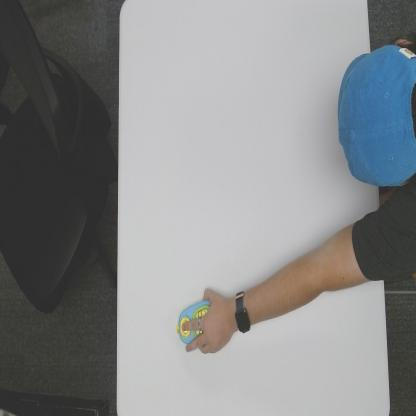Arm: (252, 222, 378, 329)
Boat: (176, 299, 210, 346)
Hand: (181, 288, 233, 356)
